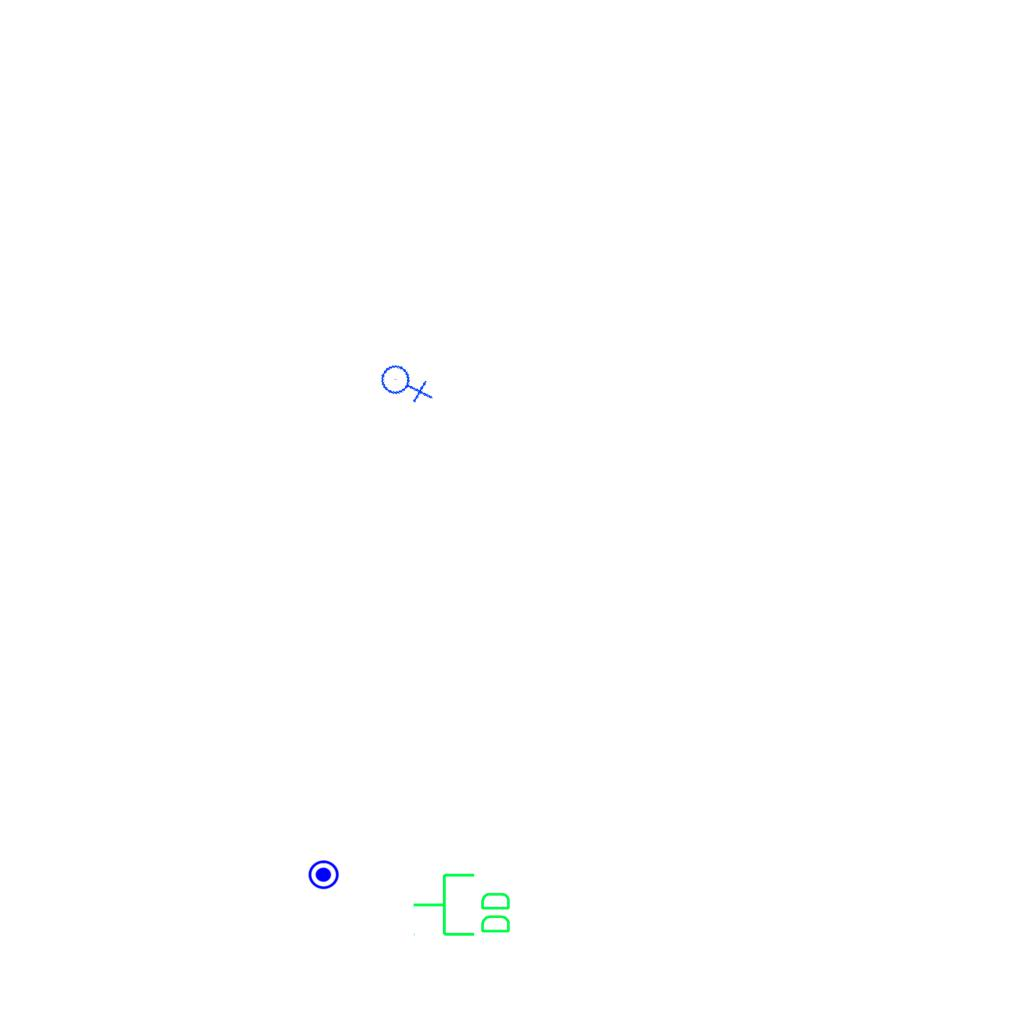Datenanschluss_zweifach: (411, 871, 514, 940)
Elektroanschluss_allgemein_230V_Geraeteanschlussdose_230V: (375, 351, 436, 414)
Taster: (307, 857, 340, 890)
